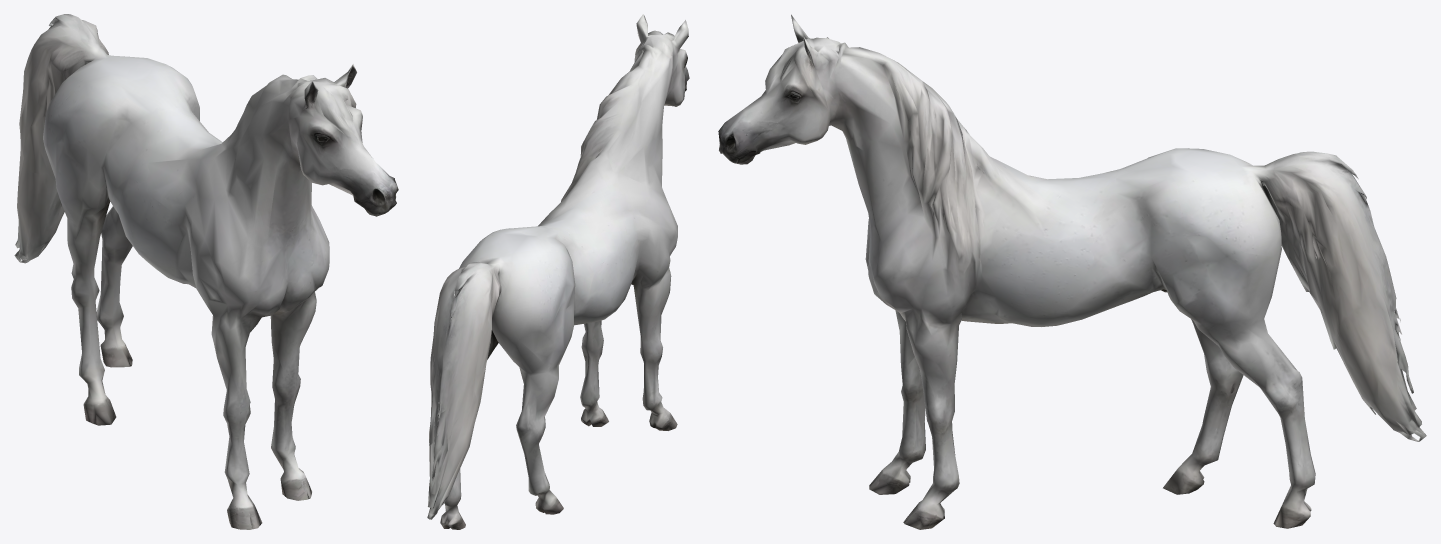
The model's file is animal_horse_white.glb.
The picture shows the model from 3 angles, left to right: view 1: azimuth 30°, elevation 25°; view 2: azimuth 150°, elevation 25°; view 3: azimuth 270°, elevation 25°; orthographic projection. The views are drawn at different scales.
Parts seen in each view (by area): view 1: tripo_node_43b77b38-34e1-43ba-b342-924a9da9d04c; view 2: tripo_node_43b77b38-34e1-43ba-b342-924a9da9d04c; view 3: tripo_node_43b77b38-34e1-43ba-b342-924a9da9d04c.
Part boxes in pixels (bbox=[...]): tripo_node_43b77b38-34e1-43ba-b342-924a9da9d04c: bbox=[14, 14, 398, 529]; tripo_node_43b77b38-34e1-43ba-b342-924a9da9d04c: bbox=[427, 14, 689, 529]; tripo_node_43b77b38-34e1-43ba-b342-924a9da9d04c: bbox=[718, 14, 1426, 529].
Size of the model in its own units: 0.2123 by 0.7398 by 0.9778.
Materials: 1 (1 with a texture image).
